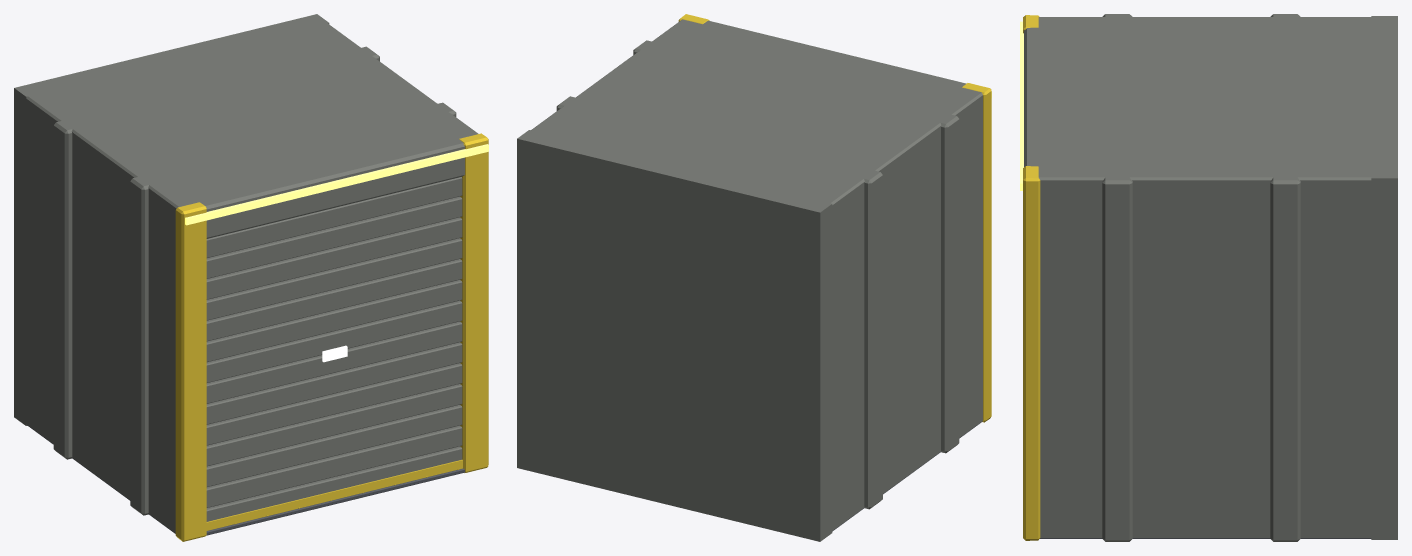
Rendered from rb_station_plodder.glb.
The picture shows the model from 3 angles, left to right: view 1: azimuth 30°, elevation 25°; view 2: azimuth 150°, elevation 25°; view 3: azimuth 270°, elevation 25°; orthographic projection. The views are drawn at different scales.
Parts seen in each view (by area): view 1: rb_station_plodder, shutter; view 2: rb_station_plodder; view 3: rb_station_plodder.
Part boxes in pixels (bbox=[...]): rb_station_plodder: bbox=[14, 14, 488, 541]; shutter: bbox=[206, 177, 462, 530]; rb_station_plodder: bbox=[517, 14, 991, 541]; rb_station_plodder: bbox=[1020, 14, 1397, 541].
Bounding box in the file's own units: 3.96 × 3.97 × 3.74.
